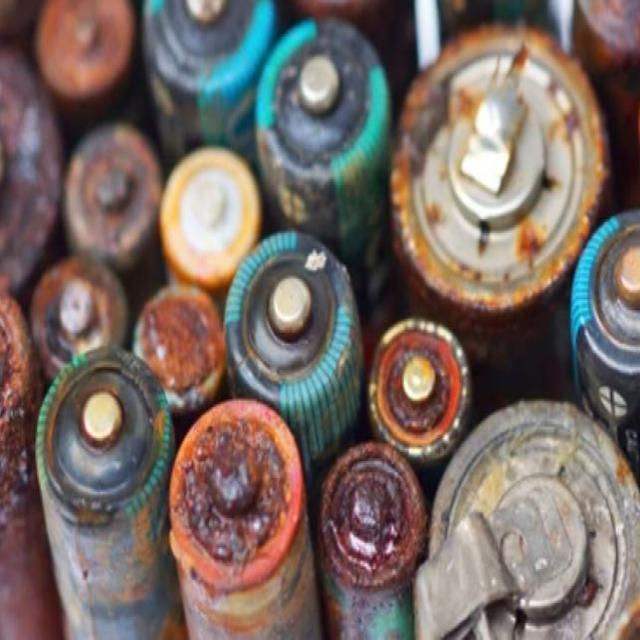electronic: (209, 202, 376, 463)
